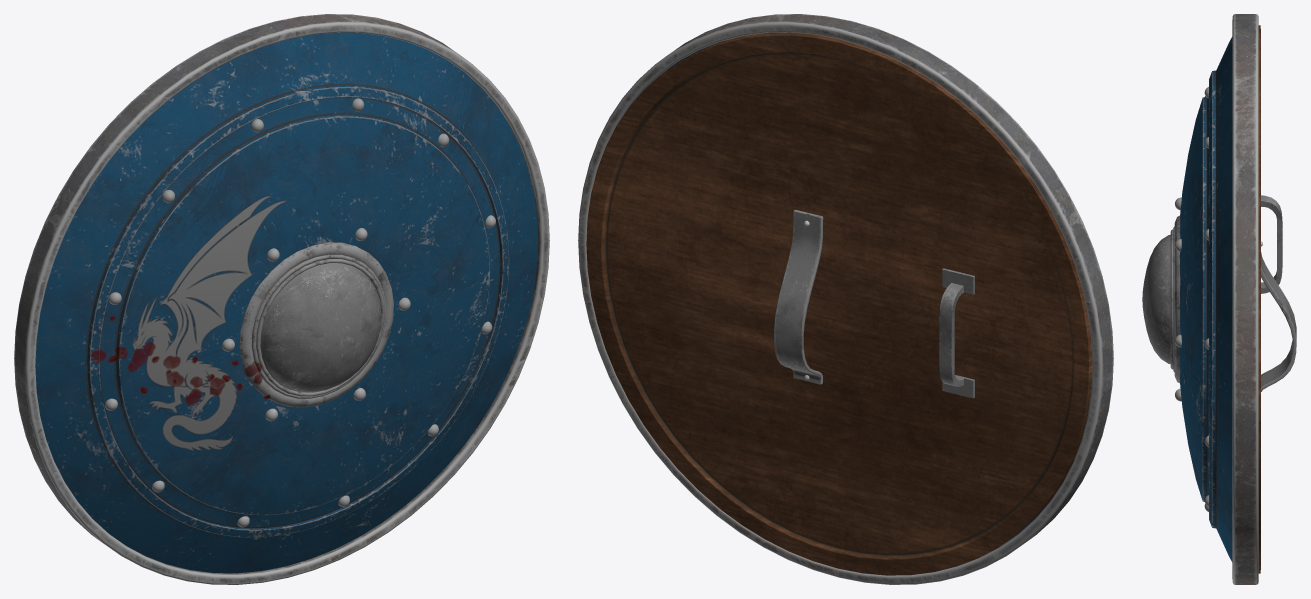
Rendered from shield.glb.
3 renders of one model, left to right at view 1: azimuth 30°, elevation 25°; view 2: azimuth 150°, elevation 25°; view 3: azimuth 270°, elevation 25°, orthographic. The views are drawn at different scales.
Parts seen in each view (by area): view 1: knight_shield1; view 2: knight_shield1; view 3: knight_shield1.
Boxes of the visible parts, bbox=[...] form: knight_shield1: bbox=[14, 14, 549, 584]; knight_shield1: bbox=[578, 14, 1113, 584]; knight_shield1: bbox=[1142, 14, 1296, 584].
Size of the model in its own units: 4.37 by 4.37 by 1.18.
1 material, 1 textured.
